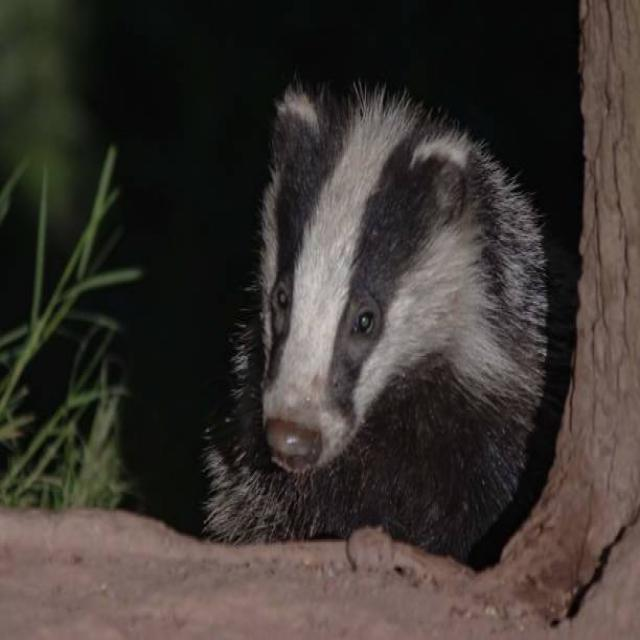Badger: (215, 88, 543, 543)
